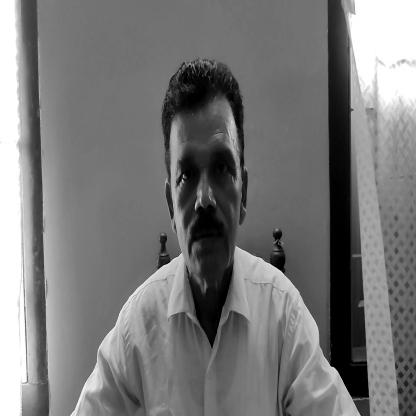Normal: (154, 66, 253, 278)
